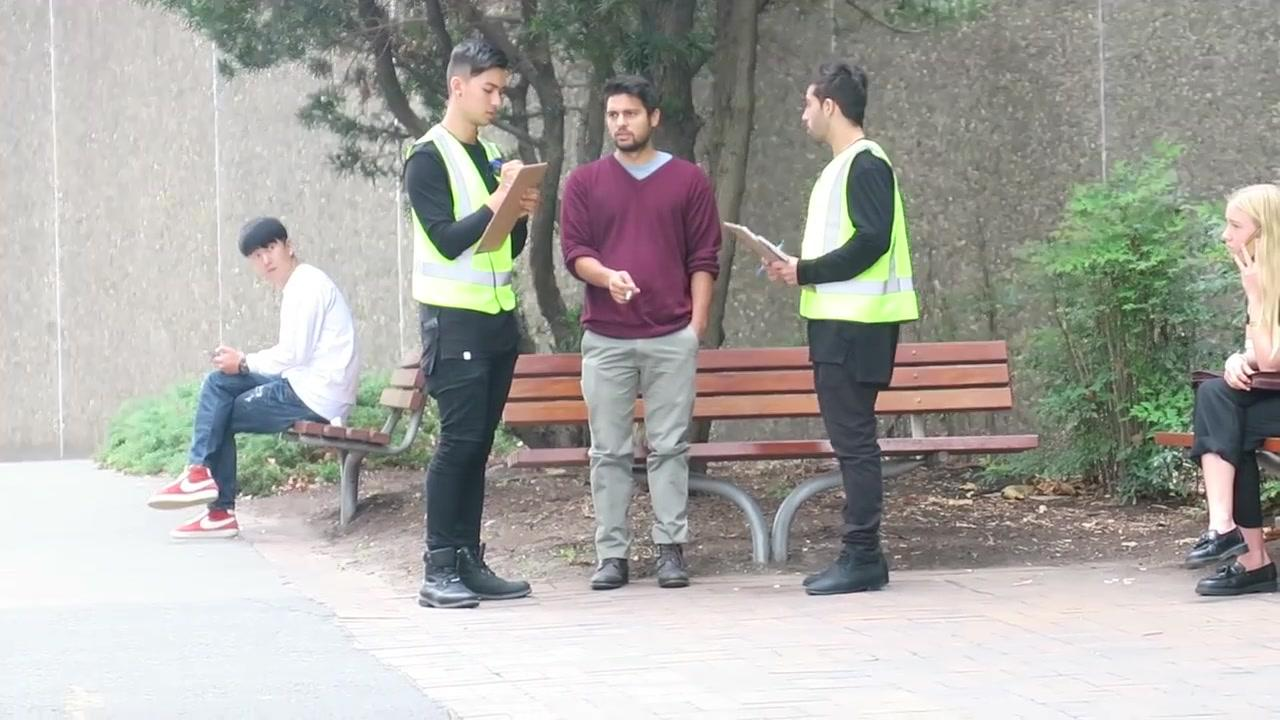Hi-Vis Jacket: (412, 134, 528, 326), (811, 152, 918, 324)
no -hi-vis jacket: (577, 154, 711, 335), (274, 269, 355, 427)
